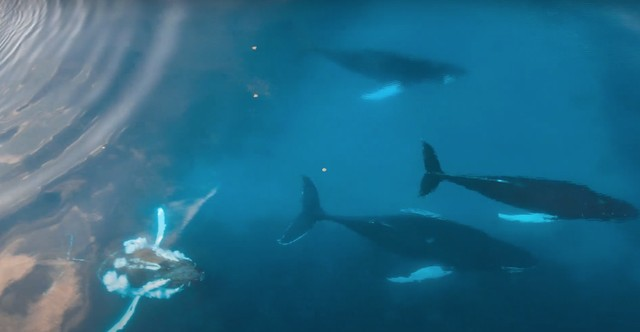whale: (271, 166, 551, 299), (41, 199, 214, 332), (411, 132, 640, 232), (267, 27, 484, 111)
